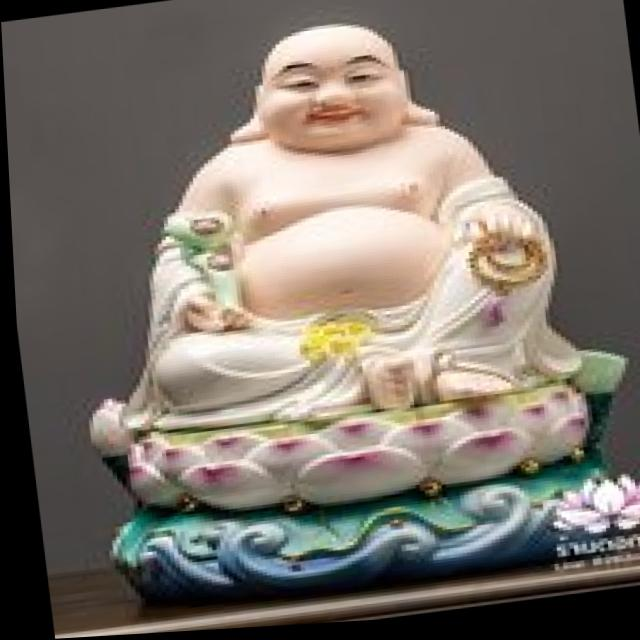Smiling Buddha: (108, 0, 578, 448)
